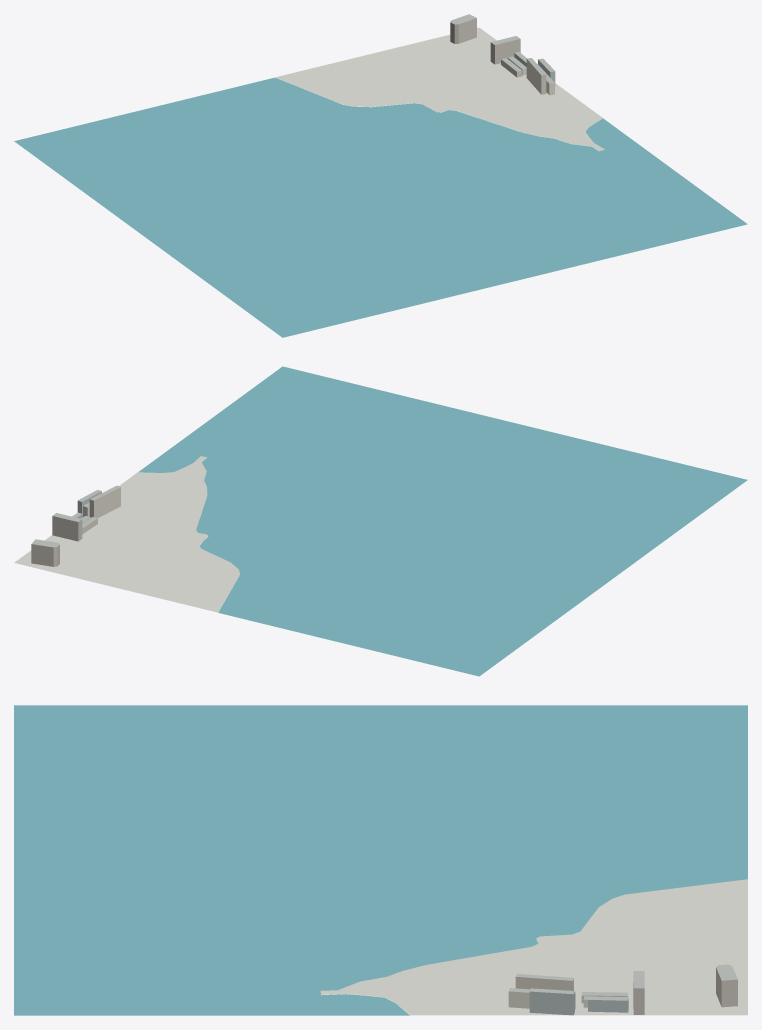
3 views of the same model, one above another, from view 1: azimuth 30°, elevation 25°; view 2: azimuth 150°, elevation 25°; view 3: azimuth 270°, elevation 25° (orthographic). The views are drawn at different scales.
Parts seen in each view (by area): view 1: city; view 2: city; view 3: city.
Boxes of the visible parts, x1=… form: city: x1=14, y1=14, x2=747, y2=337; city: x1=14, y1=366, x2=747, y2=676; city: x1=14, y1=705, x2=747, y2=1015.
Size of the model in its own units: 500 by 20.18 by 500.
